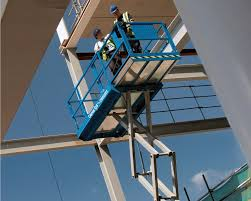Scissor Lift: (63, 20, 185, 201)
